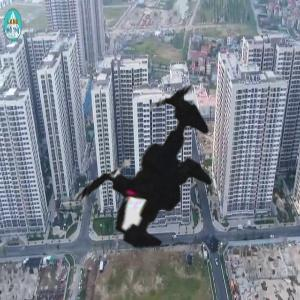drone: (22, 39, 275, 292)
